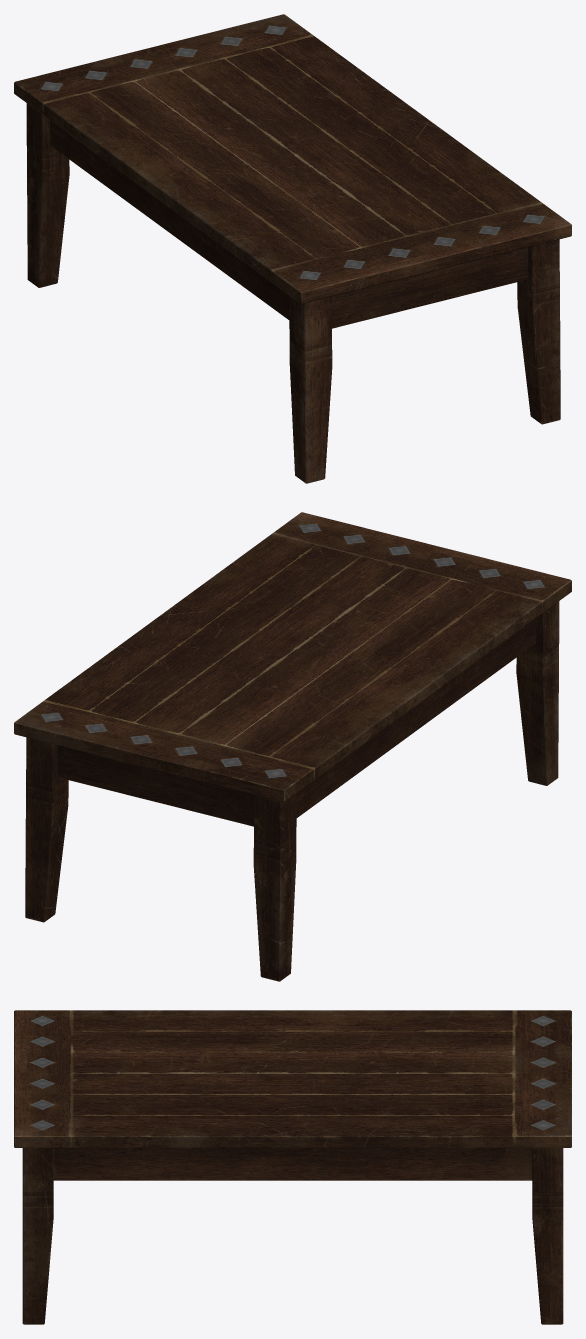
The model's file is officetable.glb.
The picture shows the model from 3 angles, top to bottom: view 1: azimuth 30°, elevation 25°; view 2: azimuth 150°, elevation 25°; view 3: azimuth 270°, elevation 25°; orthographic projection. The views are drawn at different scales.
Parts seen in each view (by area): view 1: table_low; view 2: table_low; view 3: table_low.
Boxes of the visible parts, <box> form: table_low: <box>14,14,571,483</box>; table_low: <box>14,512,571,981</box>; table_low: <box>14,1010,571,1324</box>.
Size of the model in its own units: 68.89 by 48.47 by 127.
1 material, 1 textured.
